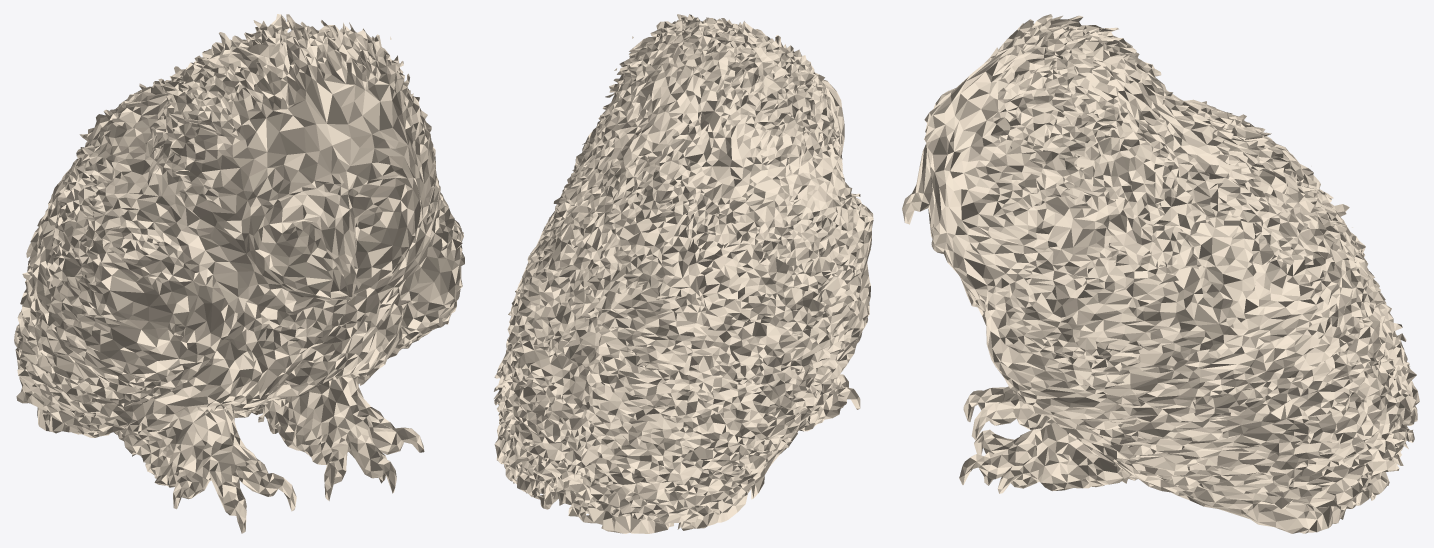
The model's file is run99b_cream_32000_ART_UNAPPROVED.glb.
3 renders of one model, left to right at view 1: azimuth 30°, elevation 25°; view 2: azimuth 150°, elevation 25°; view 3: azimuth 270°, elevation 25°, orthographic. The views are drawn at different scales.
Visible parts, largest first — view 1: run99b_retopo_32000_PBR_UNAPPROVED; view 2: run99b_retopo_32000_PBR_UNAPPROVED; view 3: run99b_retopo_32000_PBR_UNAPPROVED.
Boxes of the visible parts, box(x1,y1,x2,y2) form: run99b_retopo_32000_PBR_UNAPPROVED: box(14, 14, 464, 533); run99b_retopo_32000_PBR_UNAPPROVED: box(493, 14, 873, 533); run99b_retopo_32000_PBR_UNAPPROVED: box(902, 14, 1419, 533).
Size of the model in its own units: 1.55 by 1.91 by 1.96.
